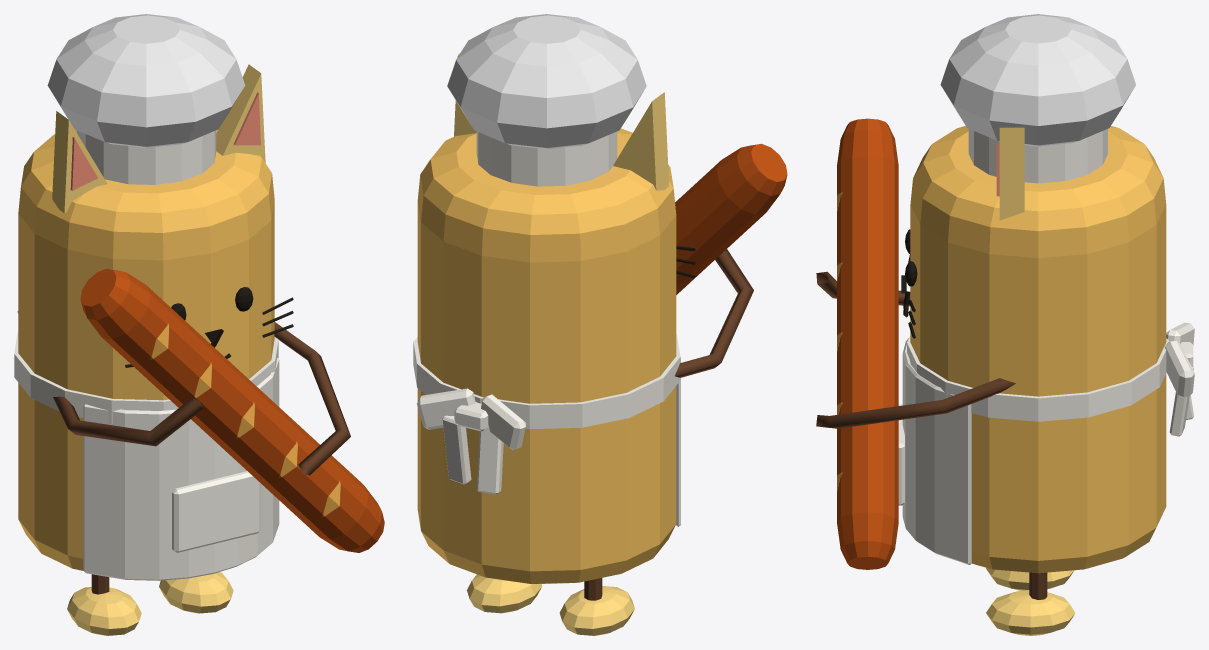
File: char_baker_cat_round_xy_v12.glb
3 views of the same model, side by side, from view 1: azimuth 30°, elevation 25°; view 2: azimuth 150°, elevation 25°; view 3: azimuth 270°, elevation 25° (orthographic). The views are drawn at different scales.
Parts seen in each view (by area): view 1: BC3_Body_Capsule, BC3_Baguette, BC3_Apron_Front, BC3_Hat_Puff, BC3_Apron_Pocket, BC3_Hat_Band, BC3_Apron_Waistband, BC3_EarInner_L, BC3_EarInner_R, BC3_Foot_L, BC3_Arm_L_UpperSupport, BC3_Arm_R_LowerWrap (+1 smaller); view 2: BC3_Body_Capsule, BC3_Hat_Puff, BC3_Baguette, BC3_Apron_Waistband, BC3_Hat_Band, BC3_EarInner_L, BC3_Foot_L, BC3_Arm_L_UpperSupport, BC3_Foot_R, BC3_Ribbon_L, BC3_Bow_R, BC3_Ribbon_R (+3 smaller); view 3: BC3_Body_Capsule, BC3_Baguette, BC3_Hat_Puff, BC3_Apron_Front, BC3_Apron_Waistband, BC3_Hat_Band, BC3_Foot_R, BC3_Arm_R_LowerWrap, BC3_EarInner_R, BC3_Bow_R, BC3_Foot_L, BC3_Ribbon_R (+1 smaller).
Boxes of the visible parts, box(x1,y1,x2,y2) form: BC3_Body_Capsule: box(18, 129, 274, 570); BC3_Baguette: box(80, 269, 384, 552); BC3_Apron_Front: box(83, 358, 279, 580); BC3_Hat_Puff: box(47, 14, 245, 148); BC3_Apron_Pocket: box(172, 471, 260, 552); BC3_Hat_Band: box(76, 130, 216, 184); BC3_Apron_Waistband: box(14, 331, 278, 423); BC3_EarInner_L: box(52, 111, 107, 213); BC3_EarInner_R: box(216, 64, 265, 162); BC3_Foot_L: box(67, 587, 141, 635); BC3_Arm_L_UpperSupport: box(53, 396, 203, 446); BC3_Arm_R_LowerWrap: box(274, 322, 350, 475); BC3_Body_Capsule: box(417, 128, 676, 583); BC3_Hat_Puff: box(447, 14, 646, 149); BC3_Baguette: box(675, 143, 787, 294); BC3_Apron_Waistband: box(413, 334, 680, 429); BC3_Hat_Band: box(476, 131, 617, 186); BC3_EarInner_L: box(613, 92, 668, 190); BC3_Foot_L: box(559, 586, 634, 635); BC3_Arm_L_UpperSupport: box(675, 249, 753, 377); BC3_Foot_R: box(467, 574, 541, 613); BC3_Ribbon_L: box(476, 425, 503, 494); BC3_Bow_R: box(417, 388, 475, 429); BC3_Ribbon_R: box(442, 415, 471, 484); BC3_Body_Capsule: box(910, 126, 1166, 573); BC3_Baguette: box(837, 118, 898, 569); BC3_Hat_Puff: box(940, 14, 1135, 146); BC3_Apron_Front: box(902, 338, 971, 564); BC3_Apron_Waistband: box(907, 336, 1169, 421); BC3_Hat_Band: box(968, 129, 1107, 183); BC3_Foot_R: box(986, 590, 1075, 635); BC3_Arm_R_LowerWrap: box(816, 378, 1015, 428); BC3_EarInner_R: box(996, 127, 1024, 220); BC3_Bow_R: box(1165, 340, 1194, 397); BC3_Foot_L: box(986, 568, 1073, 590); BC3_Ribbon_R: box(1169, 366, 1193, 436).
Size of the model in its own units: 3.56 by 6.7 by 3.97.
7 materials, 1 textured.
